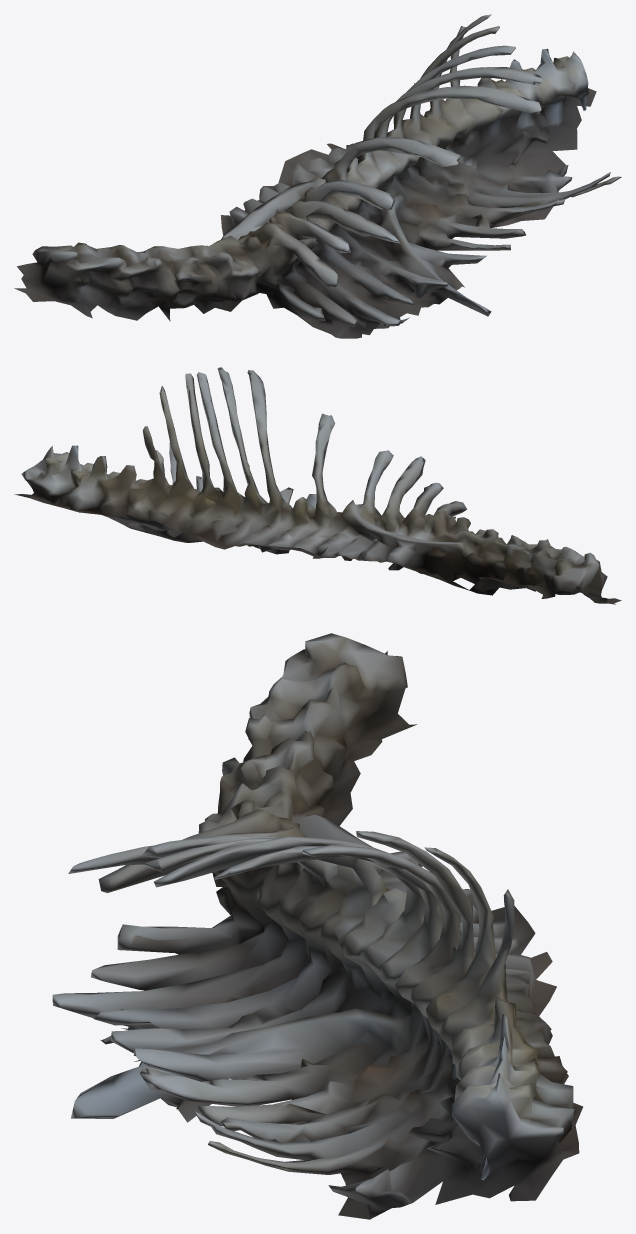
Rendered from skeleton.obj.
3 renders of one model, top to bottom at view 1: azimuth 30°, elevation 25°; view 2: azimuth 150°, elevation 25°; view 3: azimuth 270°, elevation 25°, orthographic. The views are drawn at different scales.
Bounding box in the file's own units: 7.51 × 2.41 × 3.09.
